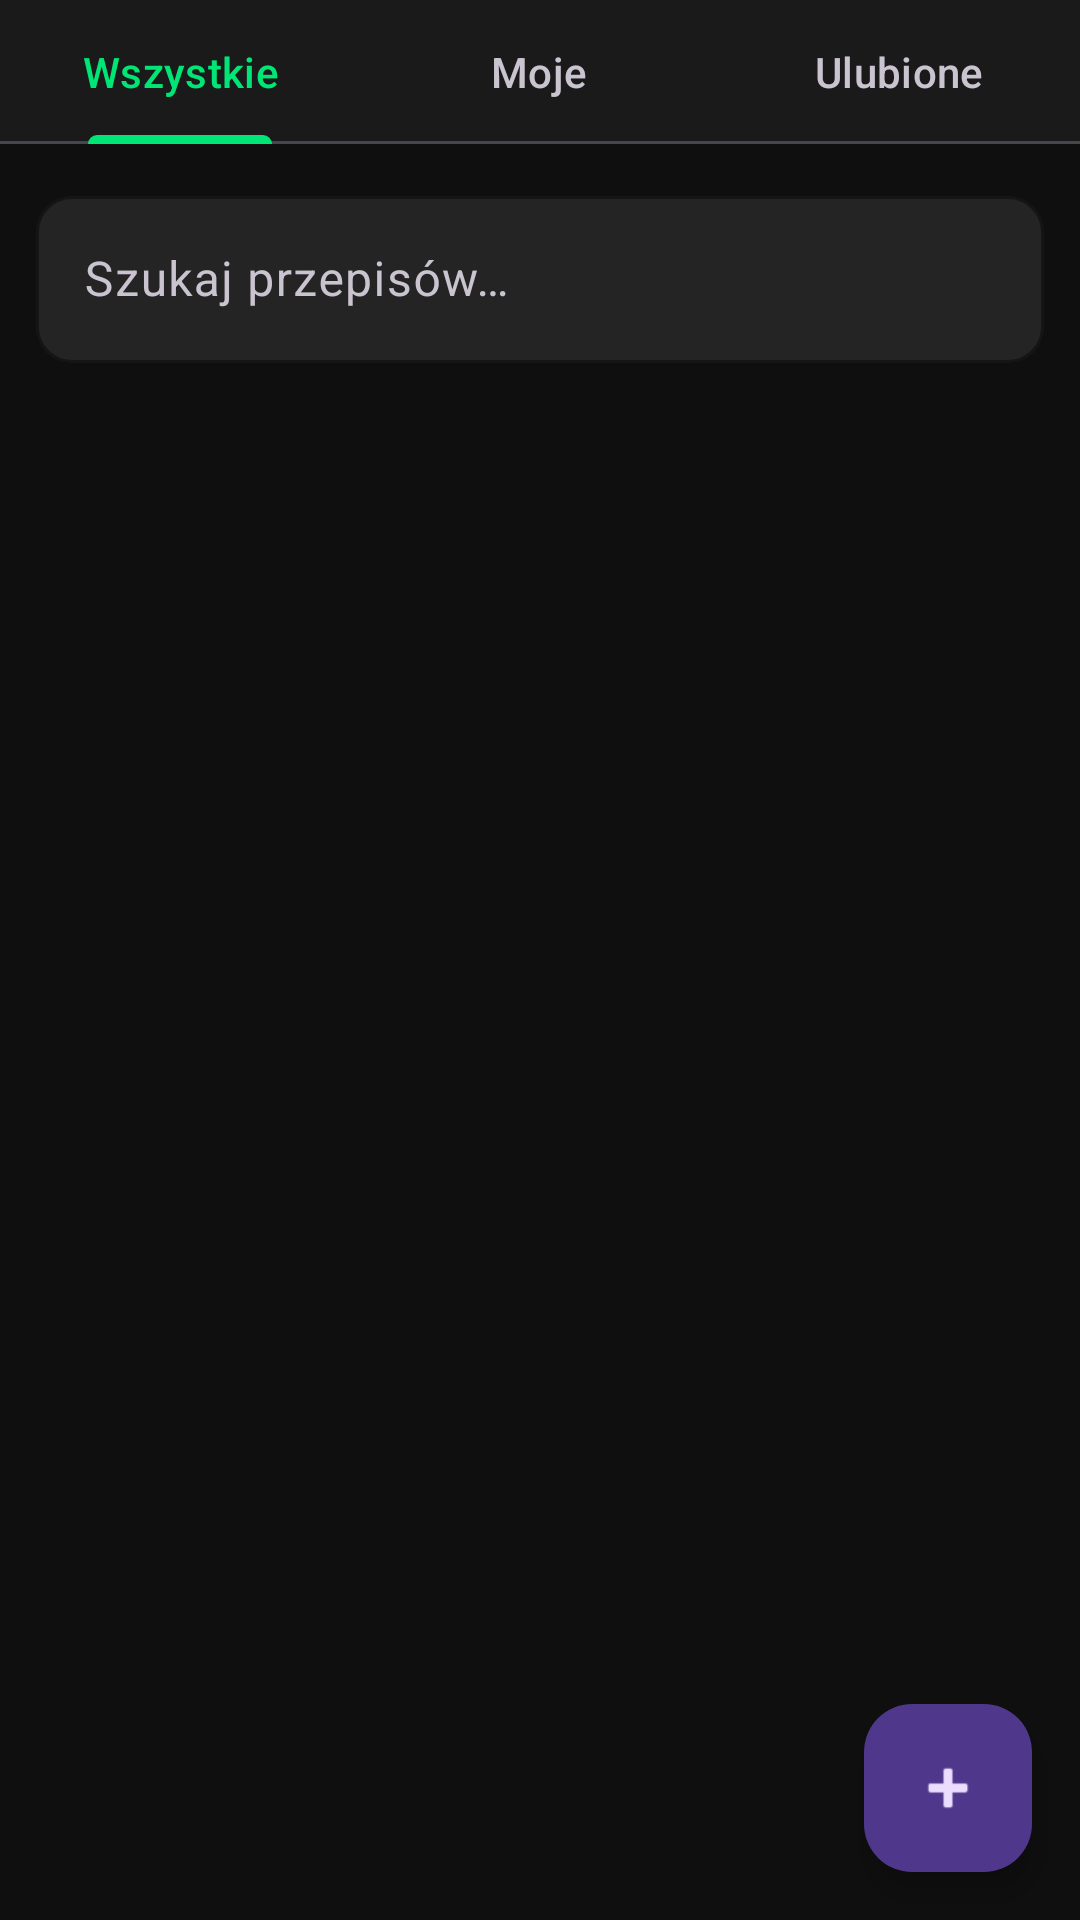

Screen size 1080×1920. Icon name, then its box in pixels as (x1, y1, x2, y2):
Dodaj przepis: (864, 1704, 1032, 1872)
